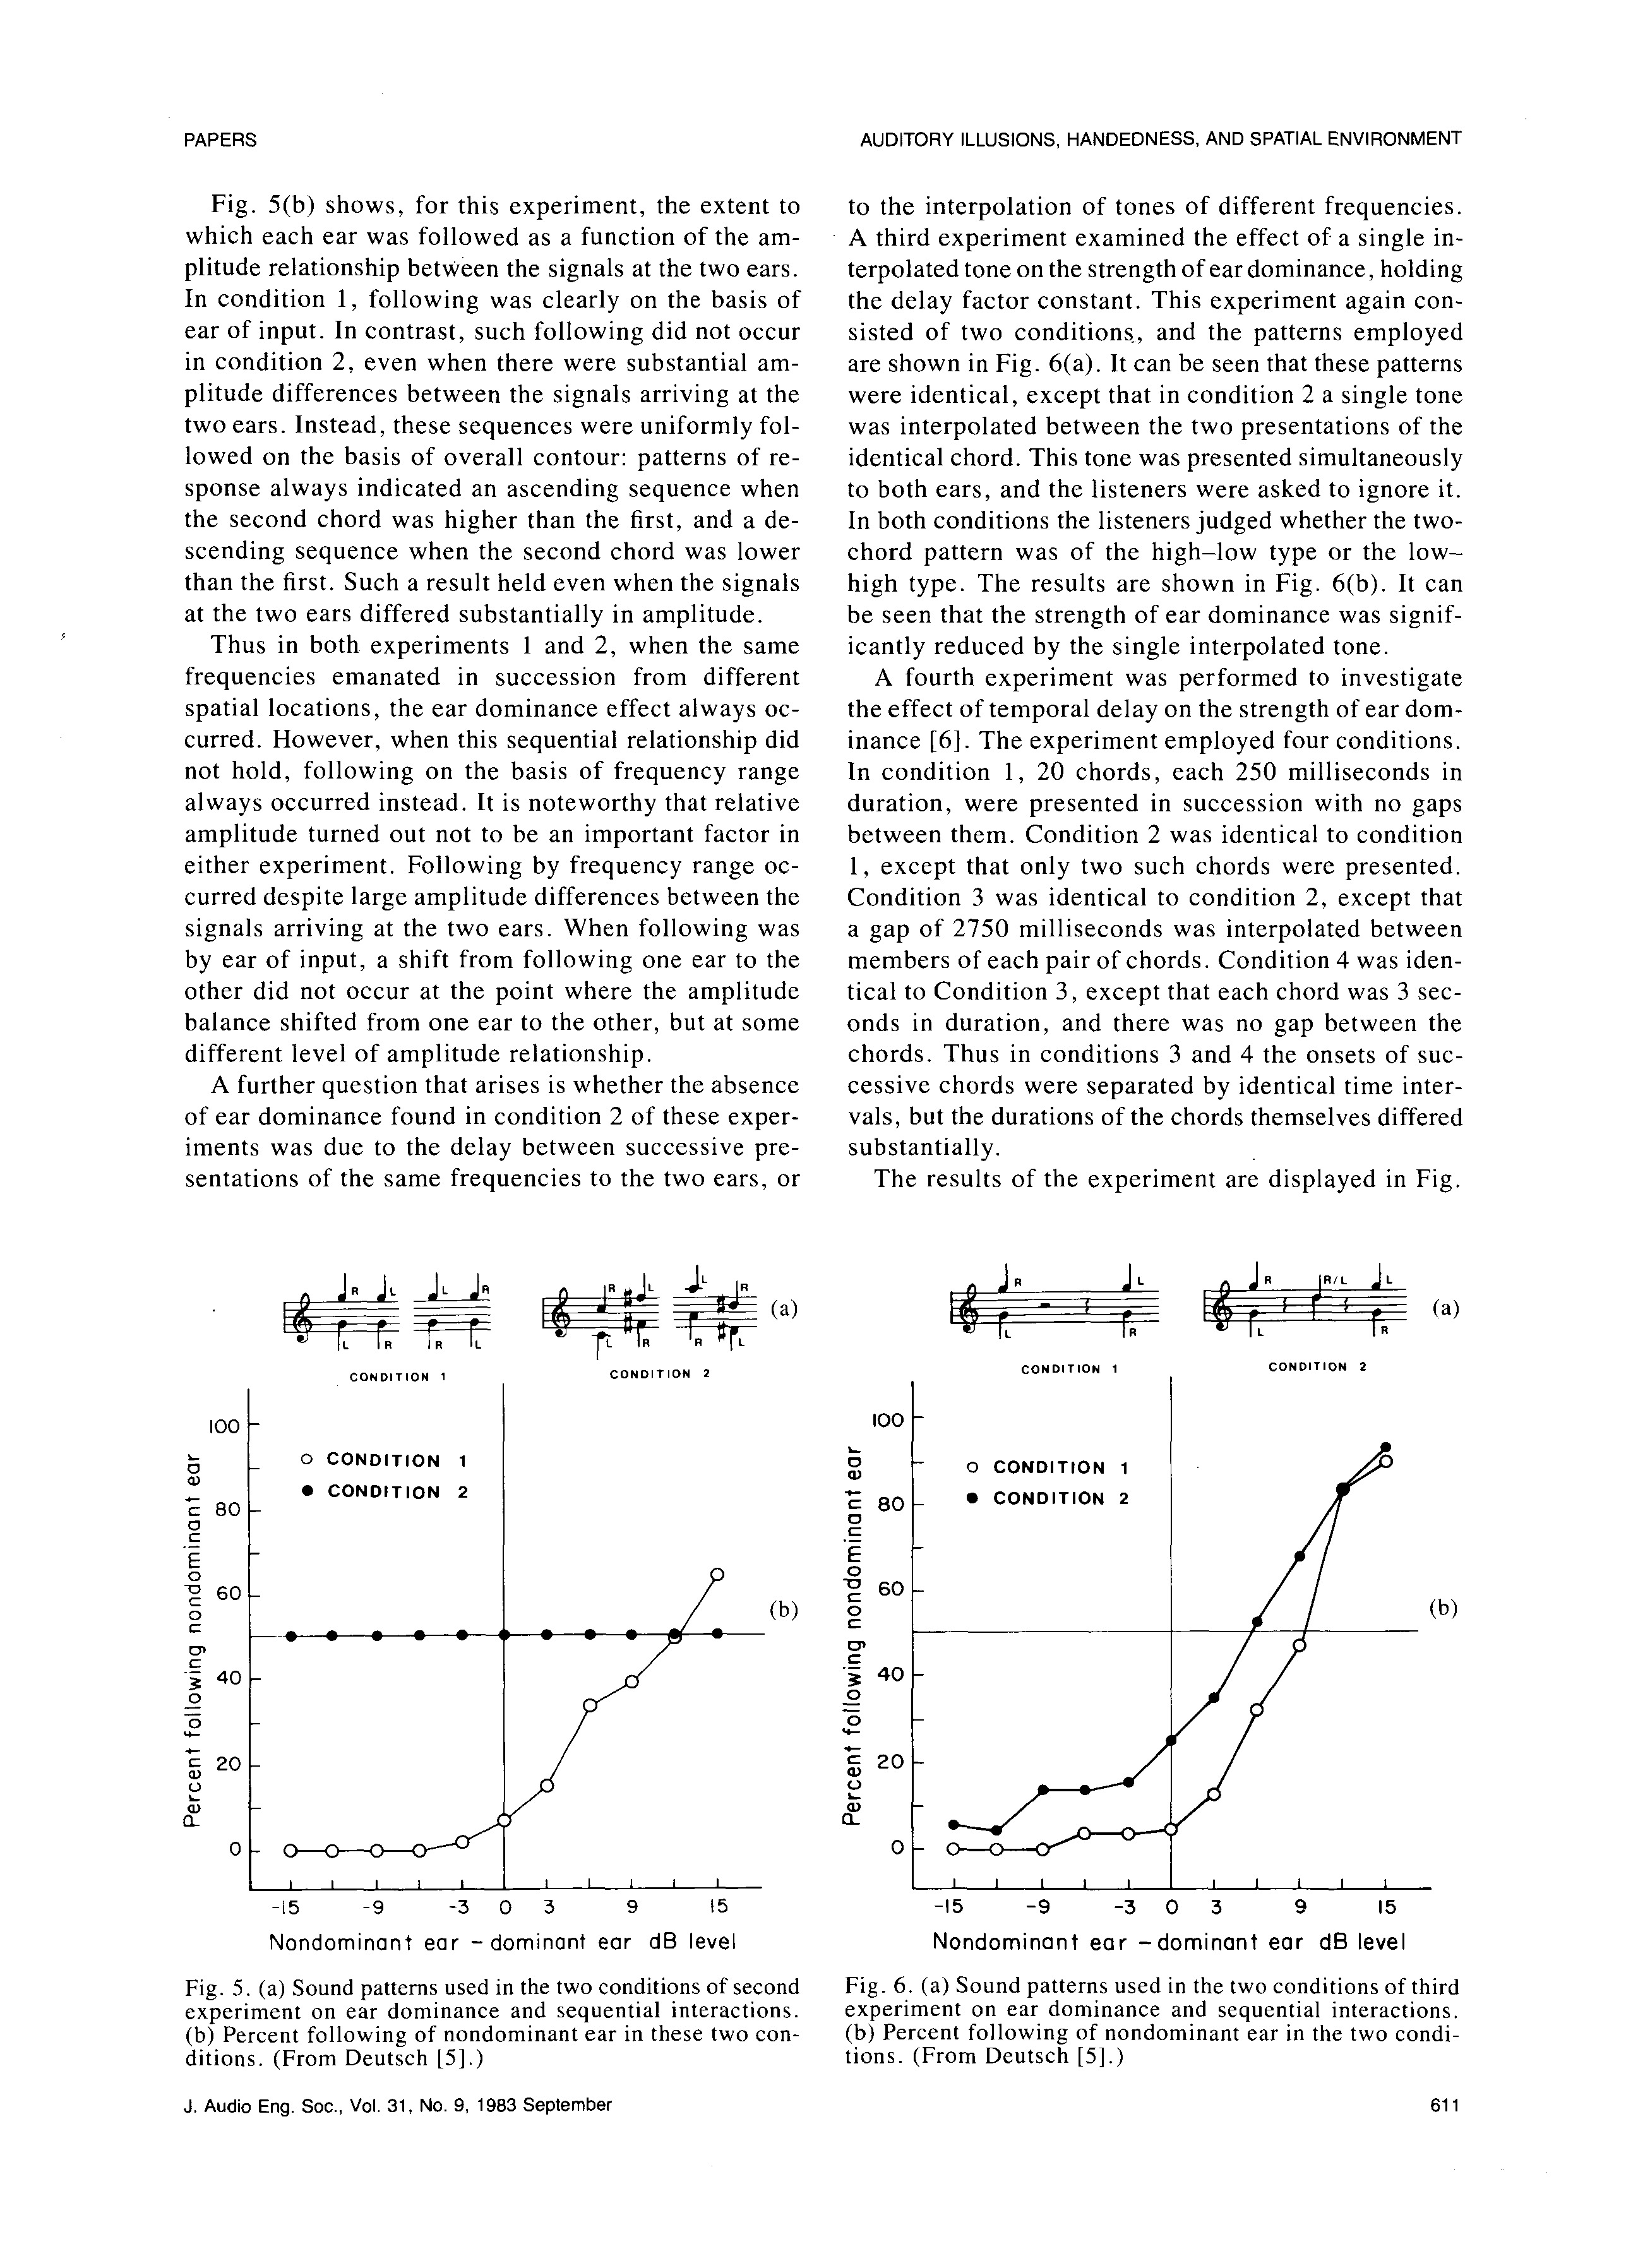caption: (172, 1974, 809, 2127), (857, 1971, 1466, 2081)
figure: (836, 1265, 1462, 1964), (176, 1293, 778, 1953)
text: (848, 667, 1466, 1165), (836, 194, 1473, 663), (176, 176, 827, 623), (172, 642, 817, 1072), (172, 1072, 817, 1200), (864, 1165, 1487, 1200)
